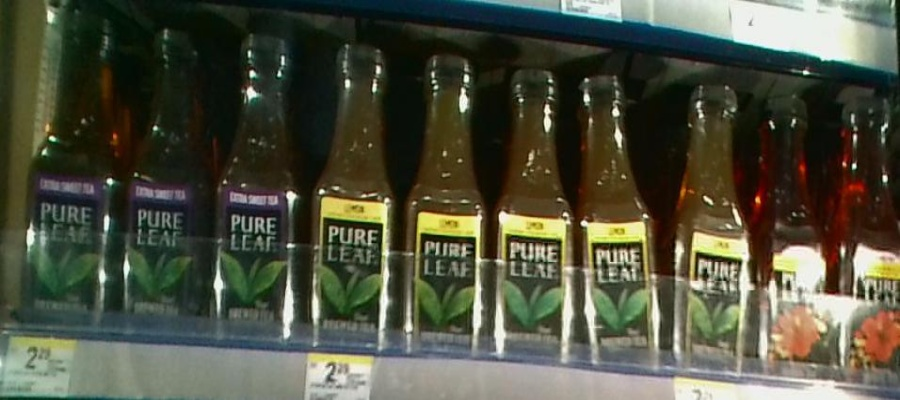bottle: (211, 24, 307, 352), (26, 2, 120, 326), (314, 22, 399, 362), (407, 37, 493, 361), (669, 60, 756, 380), (122, 13, 206, 334), (582, 65, 663, 363), (494, 61, 575, 349), (830, 86, 900, 374), (761, 85, 827, 367)
